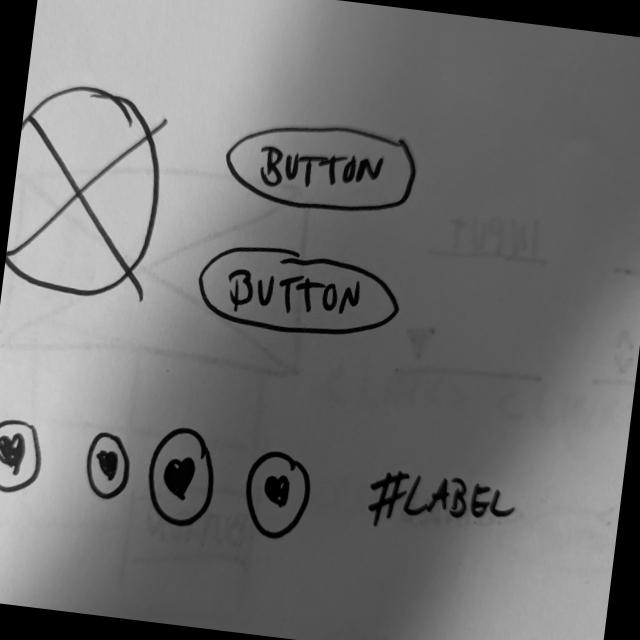button: (190, 235, 408, 348), (216, 110, 424, 226)
icon-button: (140, 419, 225, 535), (235, 442, 316, 546), (81, 424, 136, 504), (0, 412, 48, 500)
image: (1, 76, 172, 306)
label: (362, 461, 525, 548)
